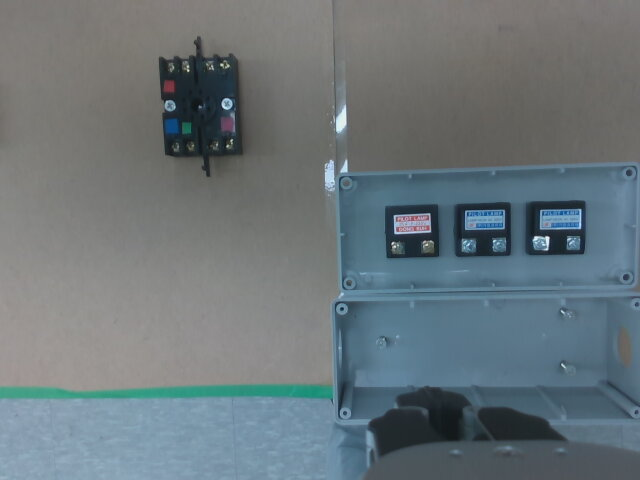L1(1): (390, 241, 405, 255)
L1(2): (420, 240, 434, 253)
L2(1): (460, 238, 476, 253)
L2(2): (492, 238, 506, 251)
L3(1): (533, 236, 549, 250)
L3(2): (567, 236, 580, 249)
